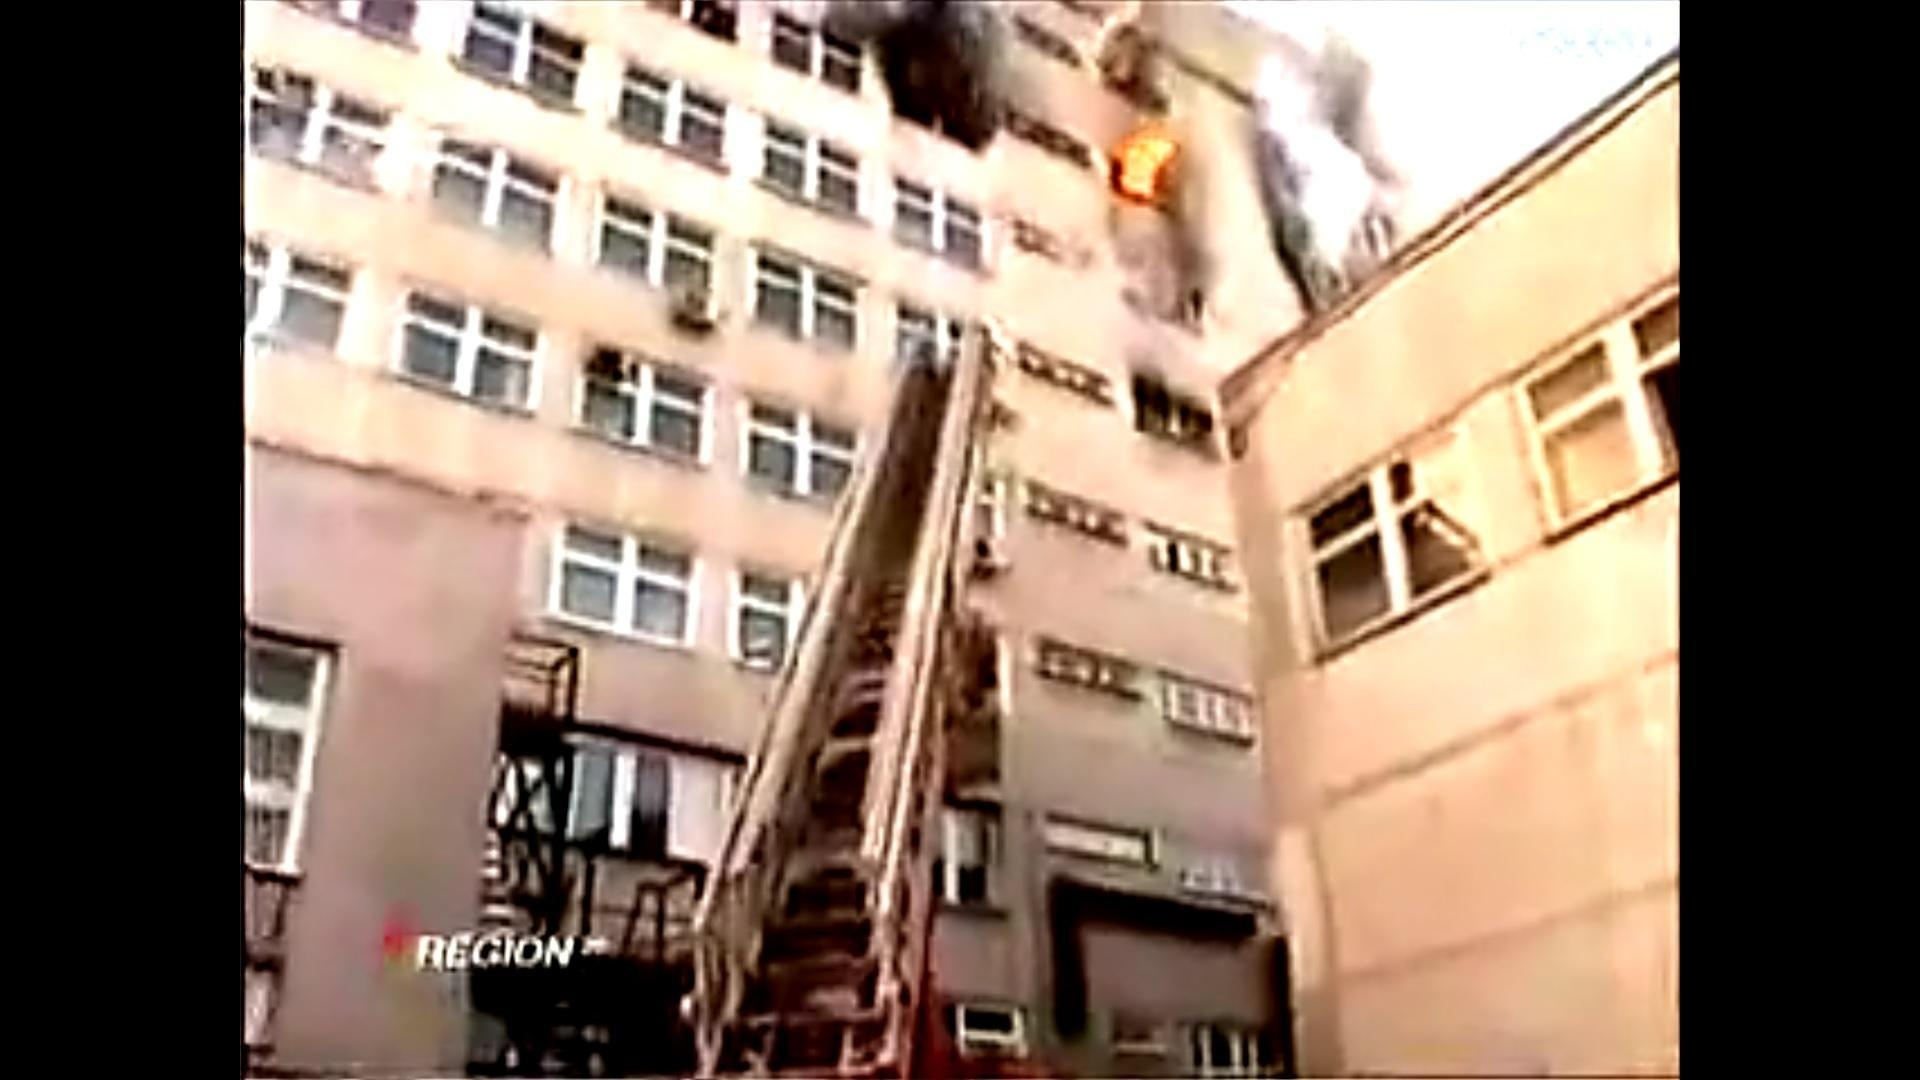fire: (1112, 119, 1175, 200)
